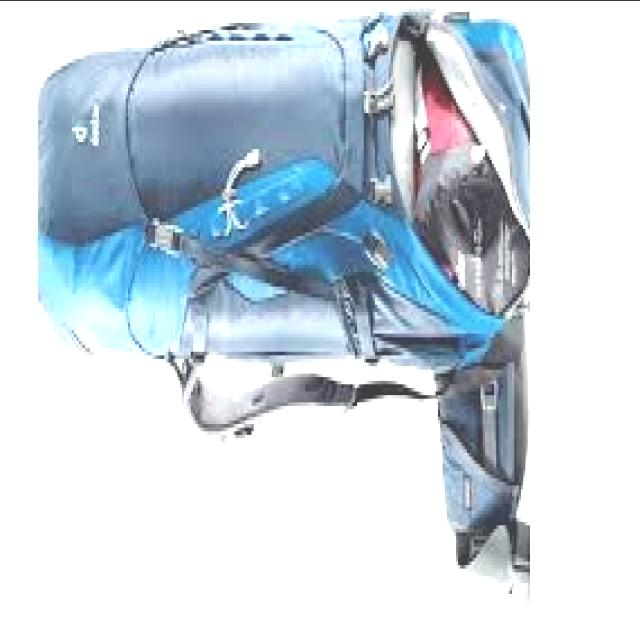backpack: (35, 9, 533, 609)
